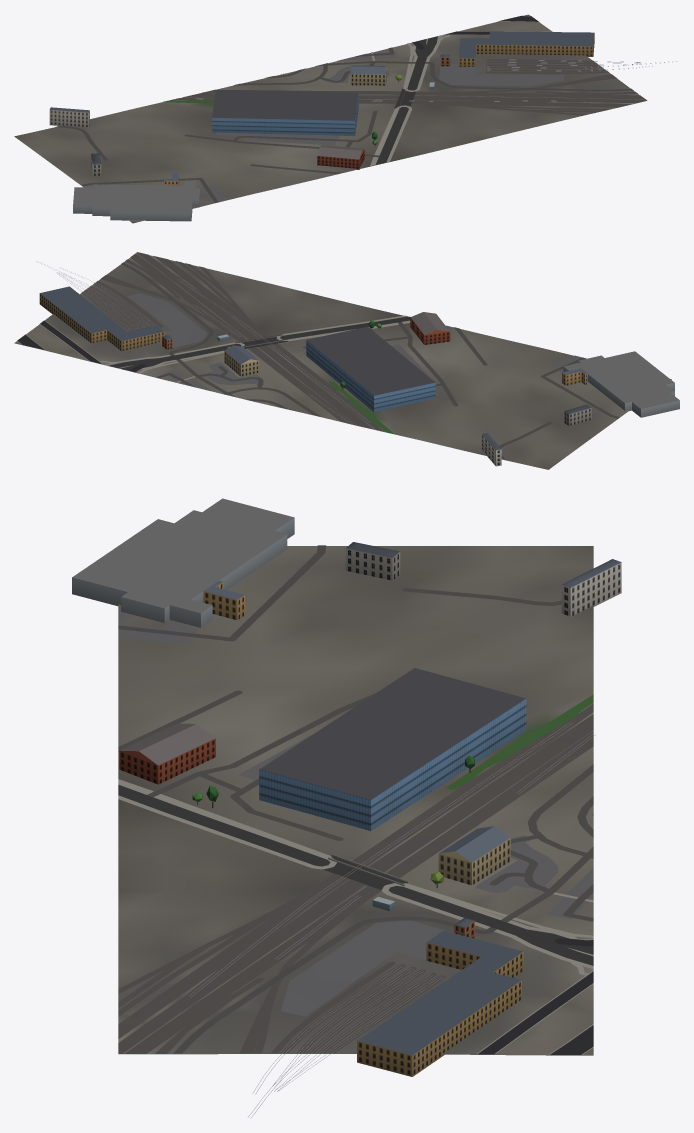
File: city_10_10.glb
3 renders of one model, top to bottom at view 1: azimuth 30°, elevation 25°; view 2: azimuth 150°, elevation 25°; view 3: azimuth 270°, elevation 25°, orthographic. The views are drawn at different scales.
Parts seen in each view (by area): view 1: terrain_10_10, buildings_10_10, roads_10_10, rail_10_10; view 2: terrain_10_10, buildings_10_10, roads_10_10, rail_10_10, green_10_10; view 3: terrain_10_10, buildings_10_10, roads_10_10, rail_10_10, green_10_10.
Boxes of the visible parts, x1=… form: terrain_10_10: x1=14, y1=14, x2=646, y2=223; buildings_10_10: x1=49, y1=31, x2=594, y2=221; roads_10_10: x1=56, y1=15, x2=633, y2=222; rail_10_10: x1=172, y1=59, x2=676, y2=115; terrain_10_10: x1=14, y1=253, x2=671, y2=469; buildings_10_10: x1=39, y1=286, x2=679, y2=466; roads_10_10: x1=17, y1=262, x2=671, y2=459; rail_10_10: x1=36, y1=252, x2=384, y2=431; green_10_10: x1=329, y1=381, x2=393, y2=433; terrain_10_10: x1=118, y1=546, x2=593, y2=1055; buildings_10_10: x1=72, y1=498, x2=621, y2=1076; roads_10_10: x1=118, y1=545, x2=593, y2=1054; rail_10_10: x1=118, y1=703, x2=595, y2=1118; green_10_10: x1=446, y1=694, x2=593, y2=789.
Size of the model in its own units: 596 by 17.48 by 231.
Materials: 8 (2 with a texture image).
